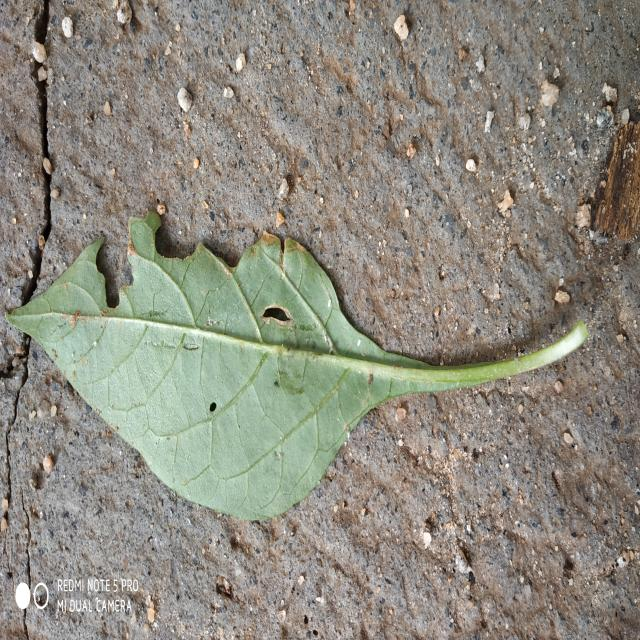ganike: (6, 211, 588, 520)
